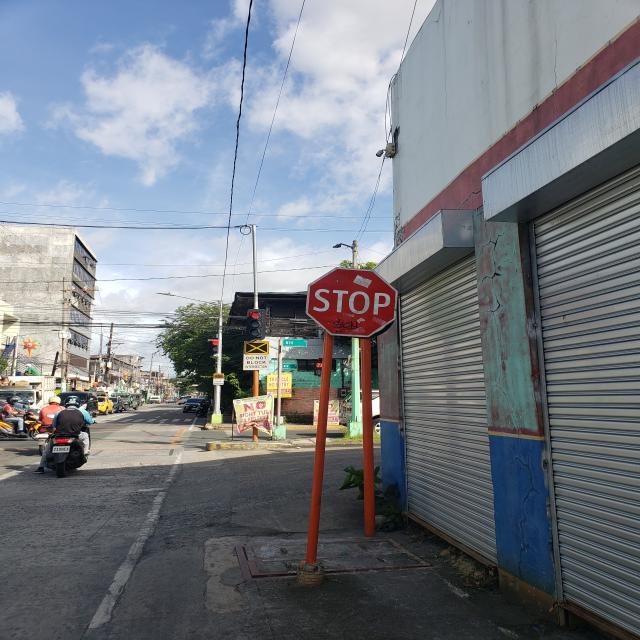stop-sign: (306, 266, 398, 338)
